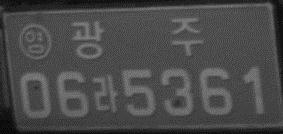0: (19, 72, 52, 120)
1: (238, 65, 271, 115)
3: (159, 67, 195, 116)
5: (121, 69, 157, 117)
6: (198, 66, 234, 115), (56, 70, 91, 118)
광주_D: (70, 17, 205, 60)
라: (91, 73, 119, 113)
영: (17, 22, 52, 60)
